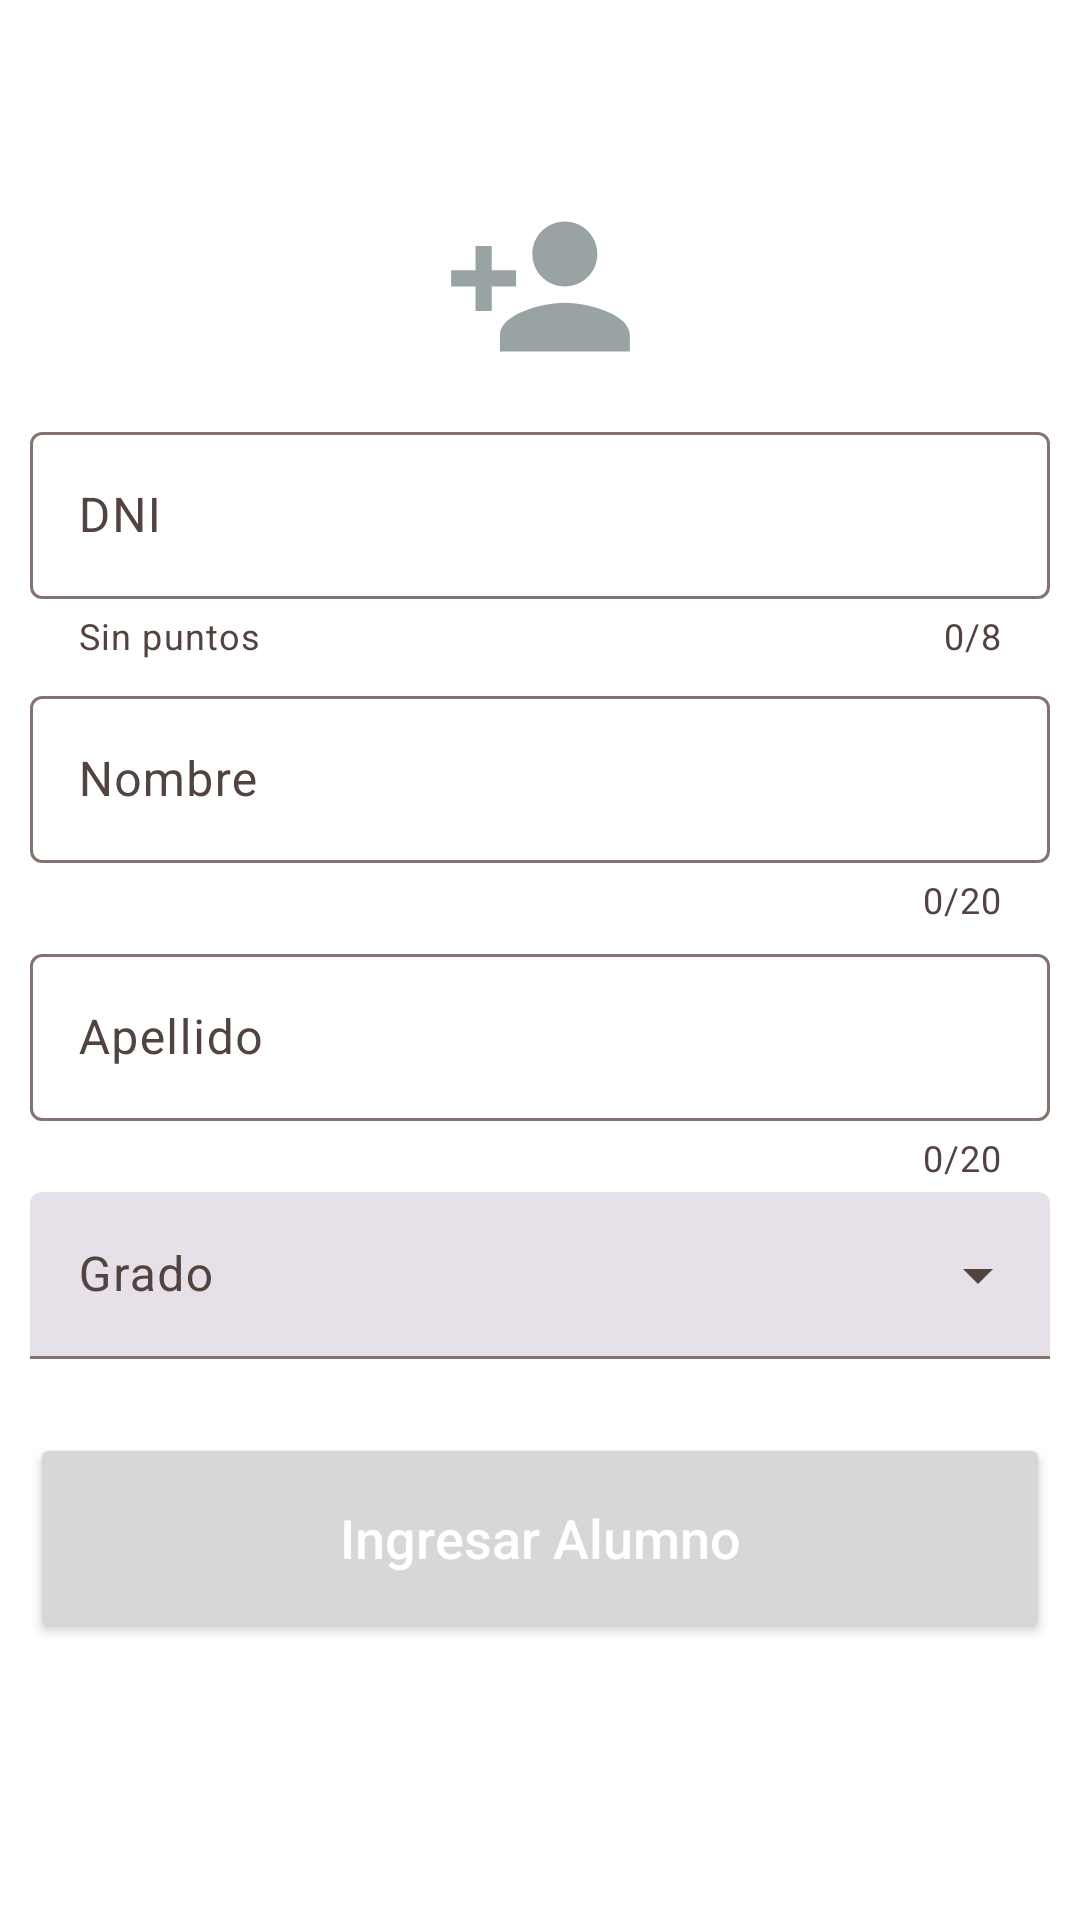

Icons on this 1080px×1920px Android screen, each with the point to tap as [x,y]:
person add: [540,286]
